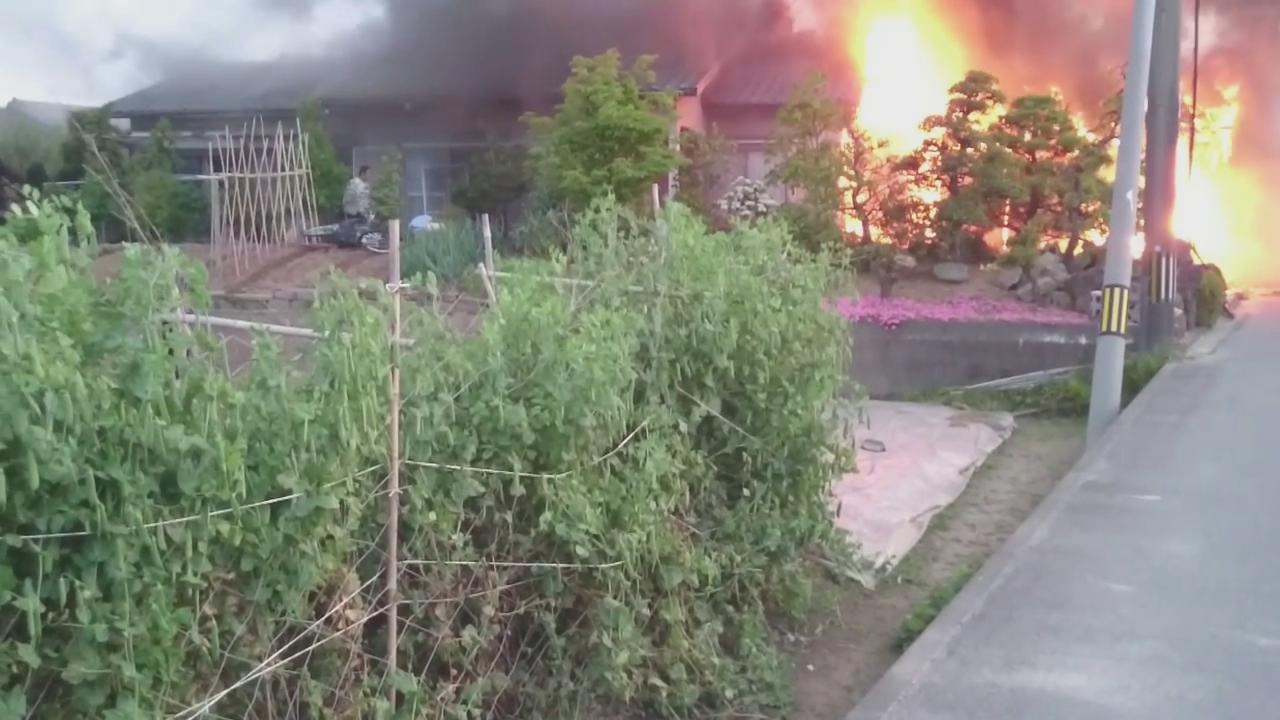Fire: (830, 4, 1000, 246), (1178, 85, 1276, 296)
